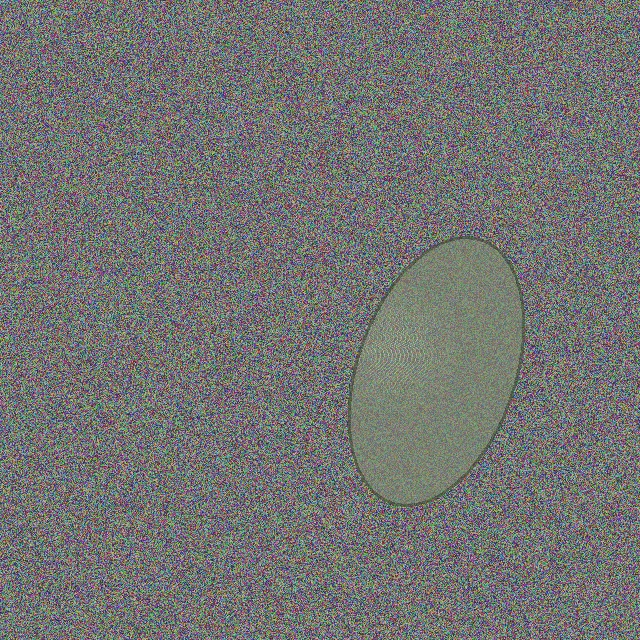lens: (349, 237, 523, 505)
